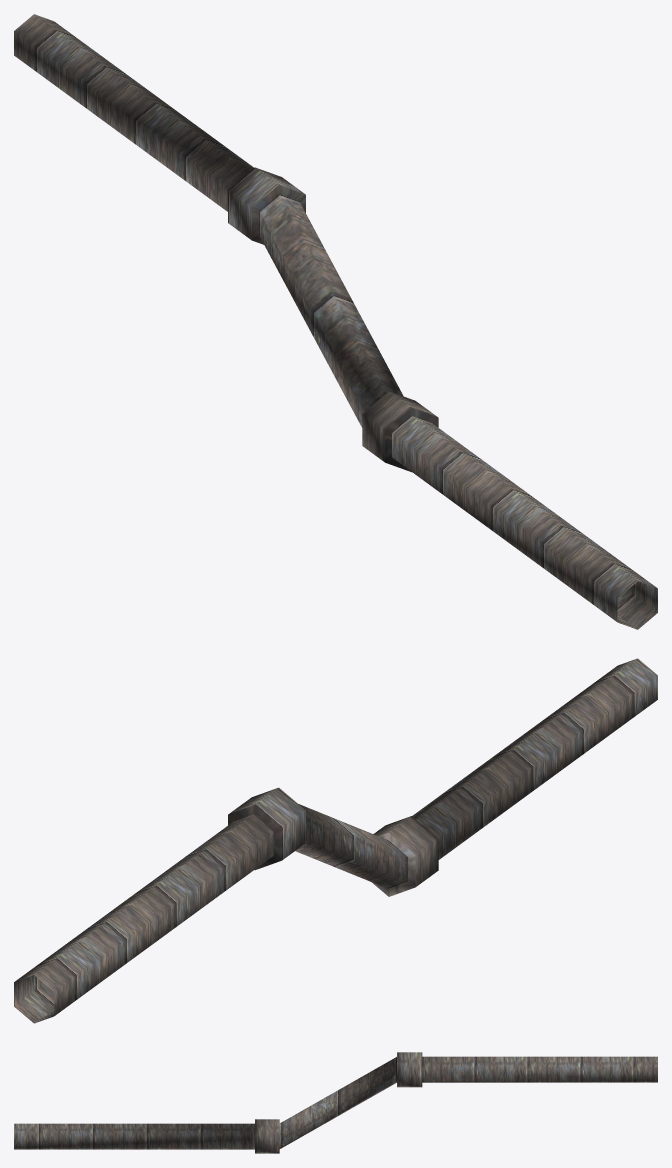
The model's file is BigPipe3.glb.
3 renders of one model, top to bottom at view 1: azimuth 30°, elevation 25°; view 2: azimuth 150°, elevation 25°; view 3: azimuth 270°, elevation 25°, orthographic. The views are drawn at different scales.
Parts seen in each view (by area): view 1: Cylinder; view 2: Cylinder; view 3: Cylinder.
Part boxes in pixels (left/top/right/bottom): Cylinder: left=14, top=14, right=657, bottom=629; Cylinder: left=14, top=658, right=657, bottom=1023; Cylinder: left=14, top=1052, right=657, bottom=1153.
Size of the model in its own units: 0.7261 by 2.44 by 14.03.
Materials: 1 (1 with a texture image).
